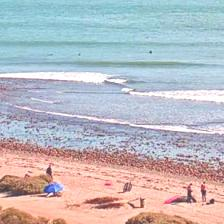surfer: (149, 50, 153, 54), (47, 54, 55, 56), (78, 53, 80, 56)
